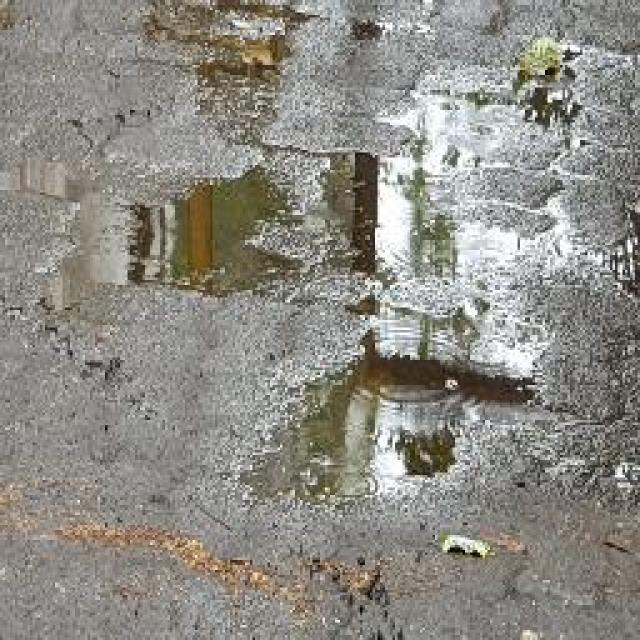stagnation: (78, 145, 586, 514)
